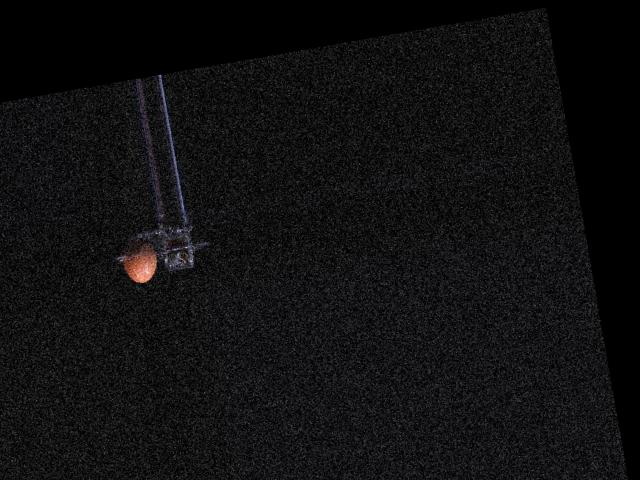egg: (118, 235, 159, 285)
